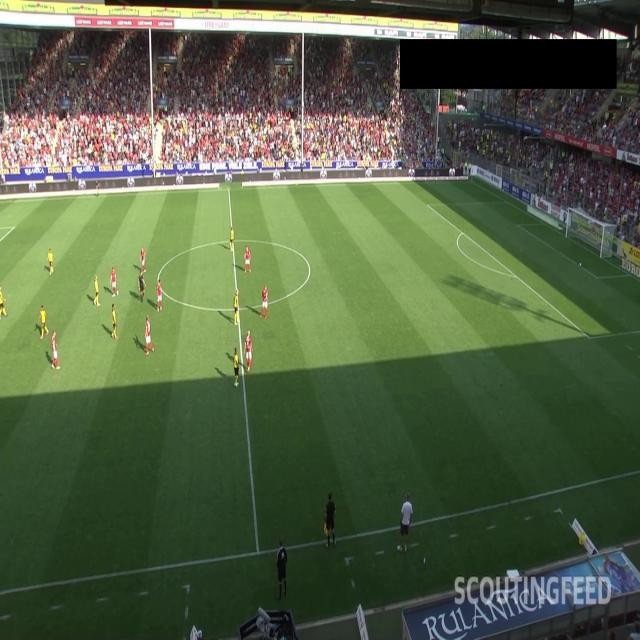ball: (577, 256, 585, 270)
player: (243, 332, 255, 370), (230, 342, 240, 384), (144, 310, 154, 352), (50, 330, 60, 371), (257, 283, 268, 319), (91, 272, 101, 310), (232, 287, 242, 324), (108, 266, 119, 294), (45, 248, 55, 278), (110, 304, 118, 339), (39, 306, 47, 339), (156, 278, 163, 312), (245, 246, 253, 273), (138, 242, 145, 272), (227, 225, 236, 248), (0, 290, 7, 316)
